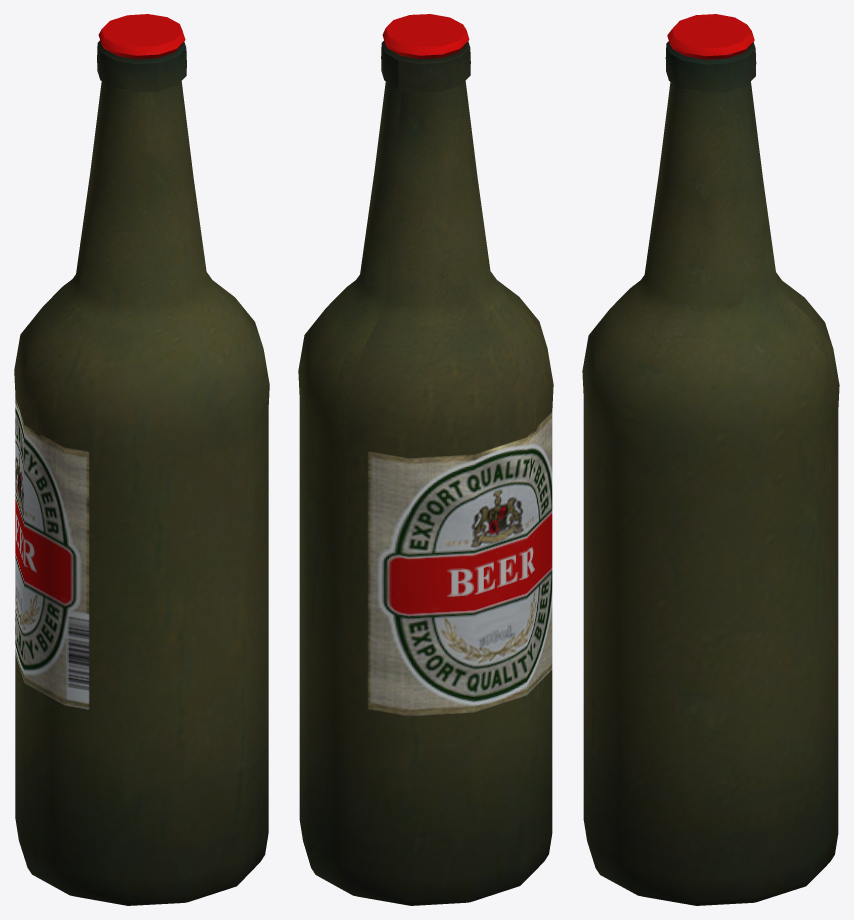
The model's file is Beer 4.FBX.
3 views of the same model, side by side, from view 1: azimuth 30°, elevation 25°; view 2: azimuth 150°, elevation 25°; view 3: azimuth 270°, elevation 25° (orthographic).
Parts seen in each view (by area): view 1: Beer 4; view 2: Beer 4; view 3: Beer 4.
Boxes of the visible parts, x1=… form: Beer 4: x1=14, y1=14, x2=269, y2=905; Beer 4: x1=298, y1=14, x2=553, y2=905; Beer 4: x1=582, y1=14, x2=839, y2=905.
Bounding box in the file's own units: 5.92 × 21.24 × 5.97.
Materials: 1 (1 with a texture image).
